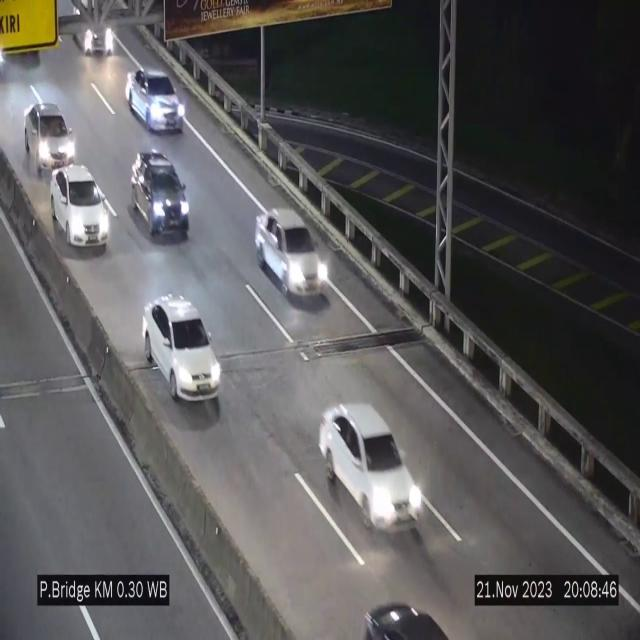Car: (320, 403, 424, 529), (142, 294, 222, 406), (255, 208, 330, 302), (131, 149, 189, 240), (51, 163, 110, 249), (24, 94, 80, 174), (127, 66, 185, 131), (70, 0, 115, 60)
